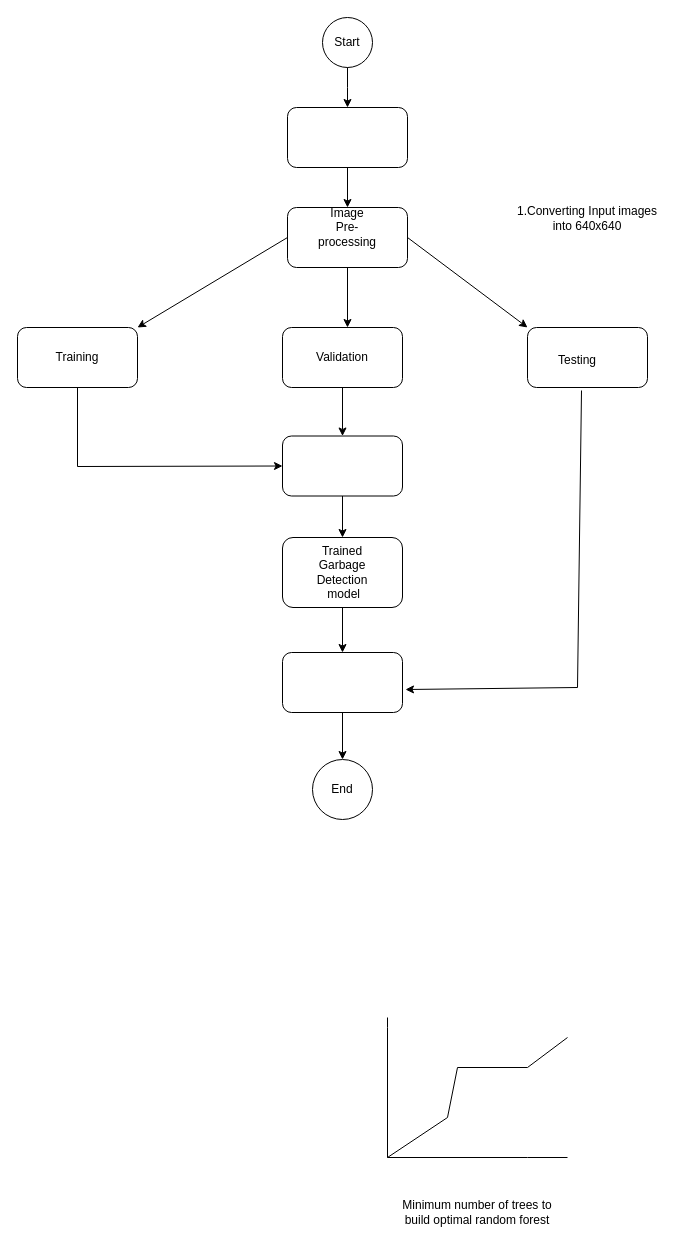
Image size: 685x1255. Some labels were removed from this diagram. The box of each missing label's shape, as (x1, y1, x2, y2) in pixels:
Image Acquisition: (286, 106, 408, 168)
Performence Evaluation: (282, 652, 402, 712)
Train YOLO model: (282, 435, 402, 496)
